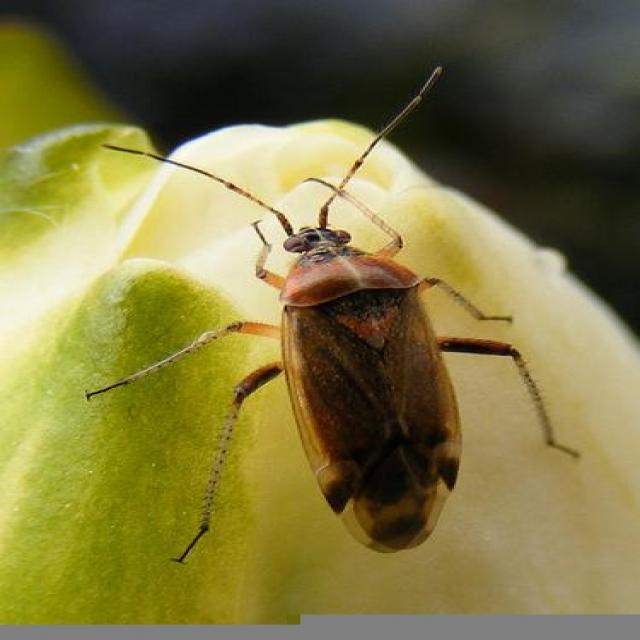Miridae-Adult-: (93, 59, 605, 562)
